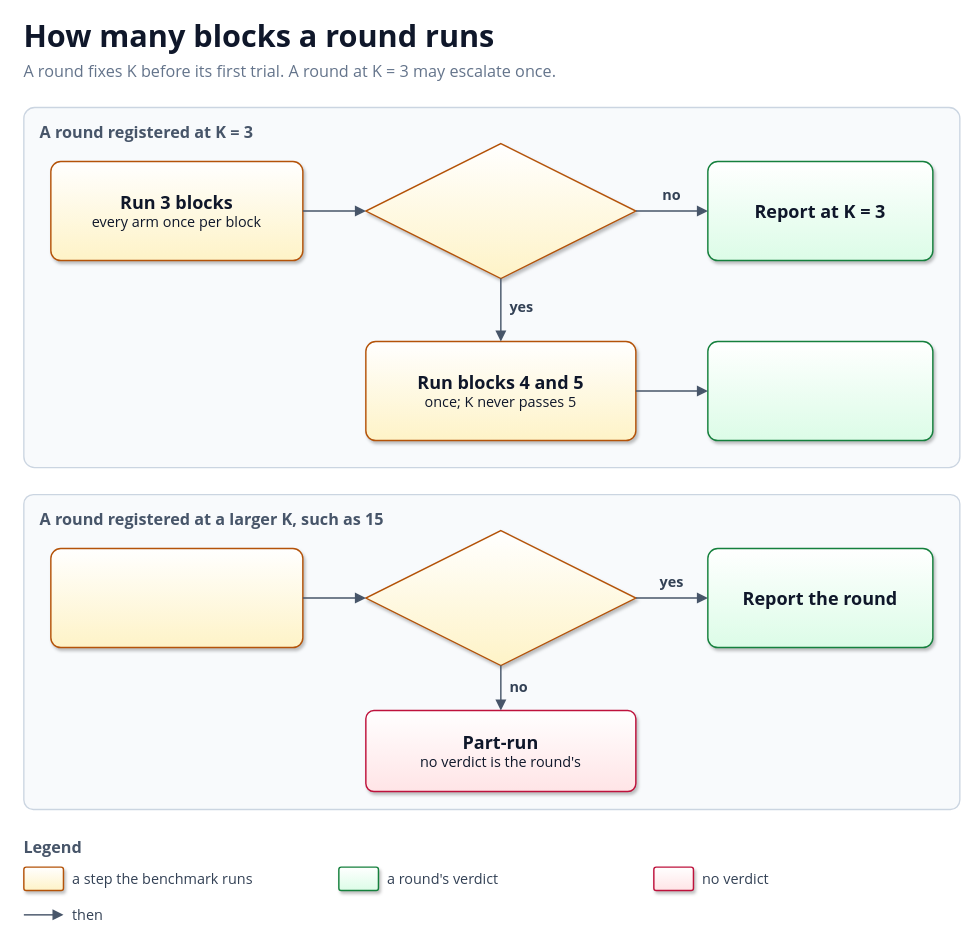
This 979x941 diagram has some shape labels left out. Each missing label, with the centre of its shape:
"All K blocks run?" goes at point (501, 599).
"Escalation owed?" goes at point (501, 212).
"Report K = 3 and 5 side by side; a row still open is inconclusive" goes at point (821, 392).
"Run K blocks no block added once results are seen" goes at point (177, 599).
